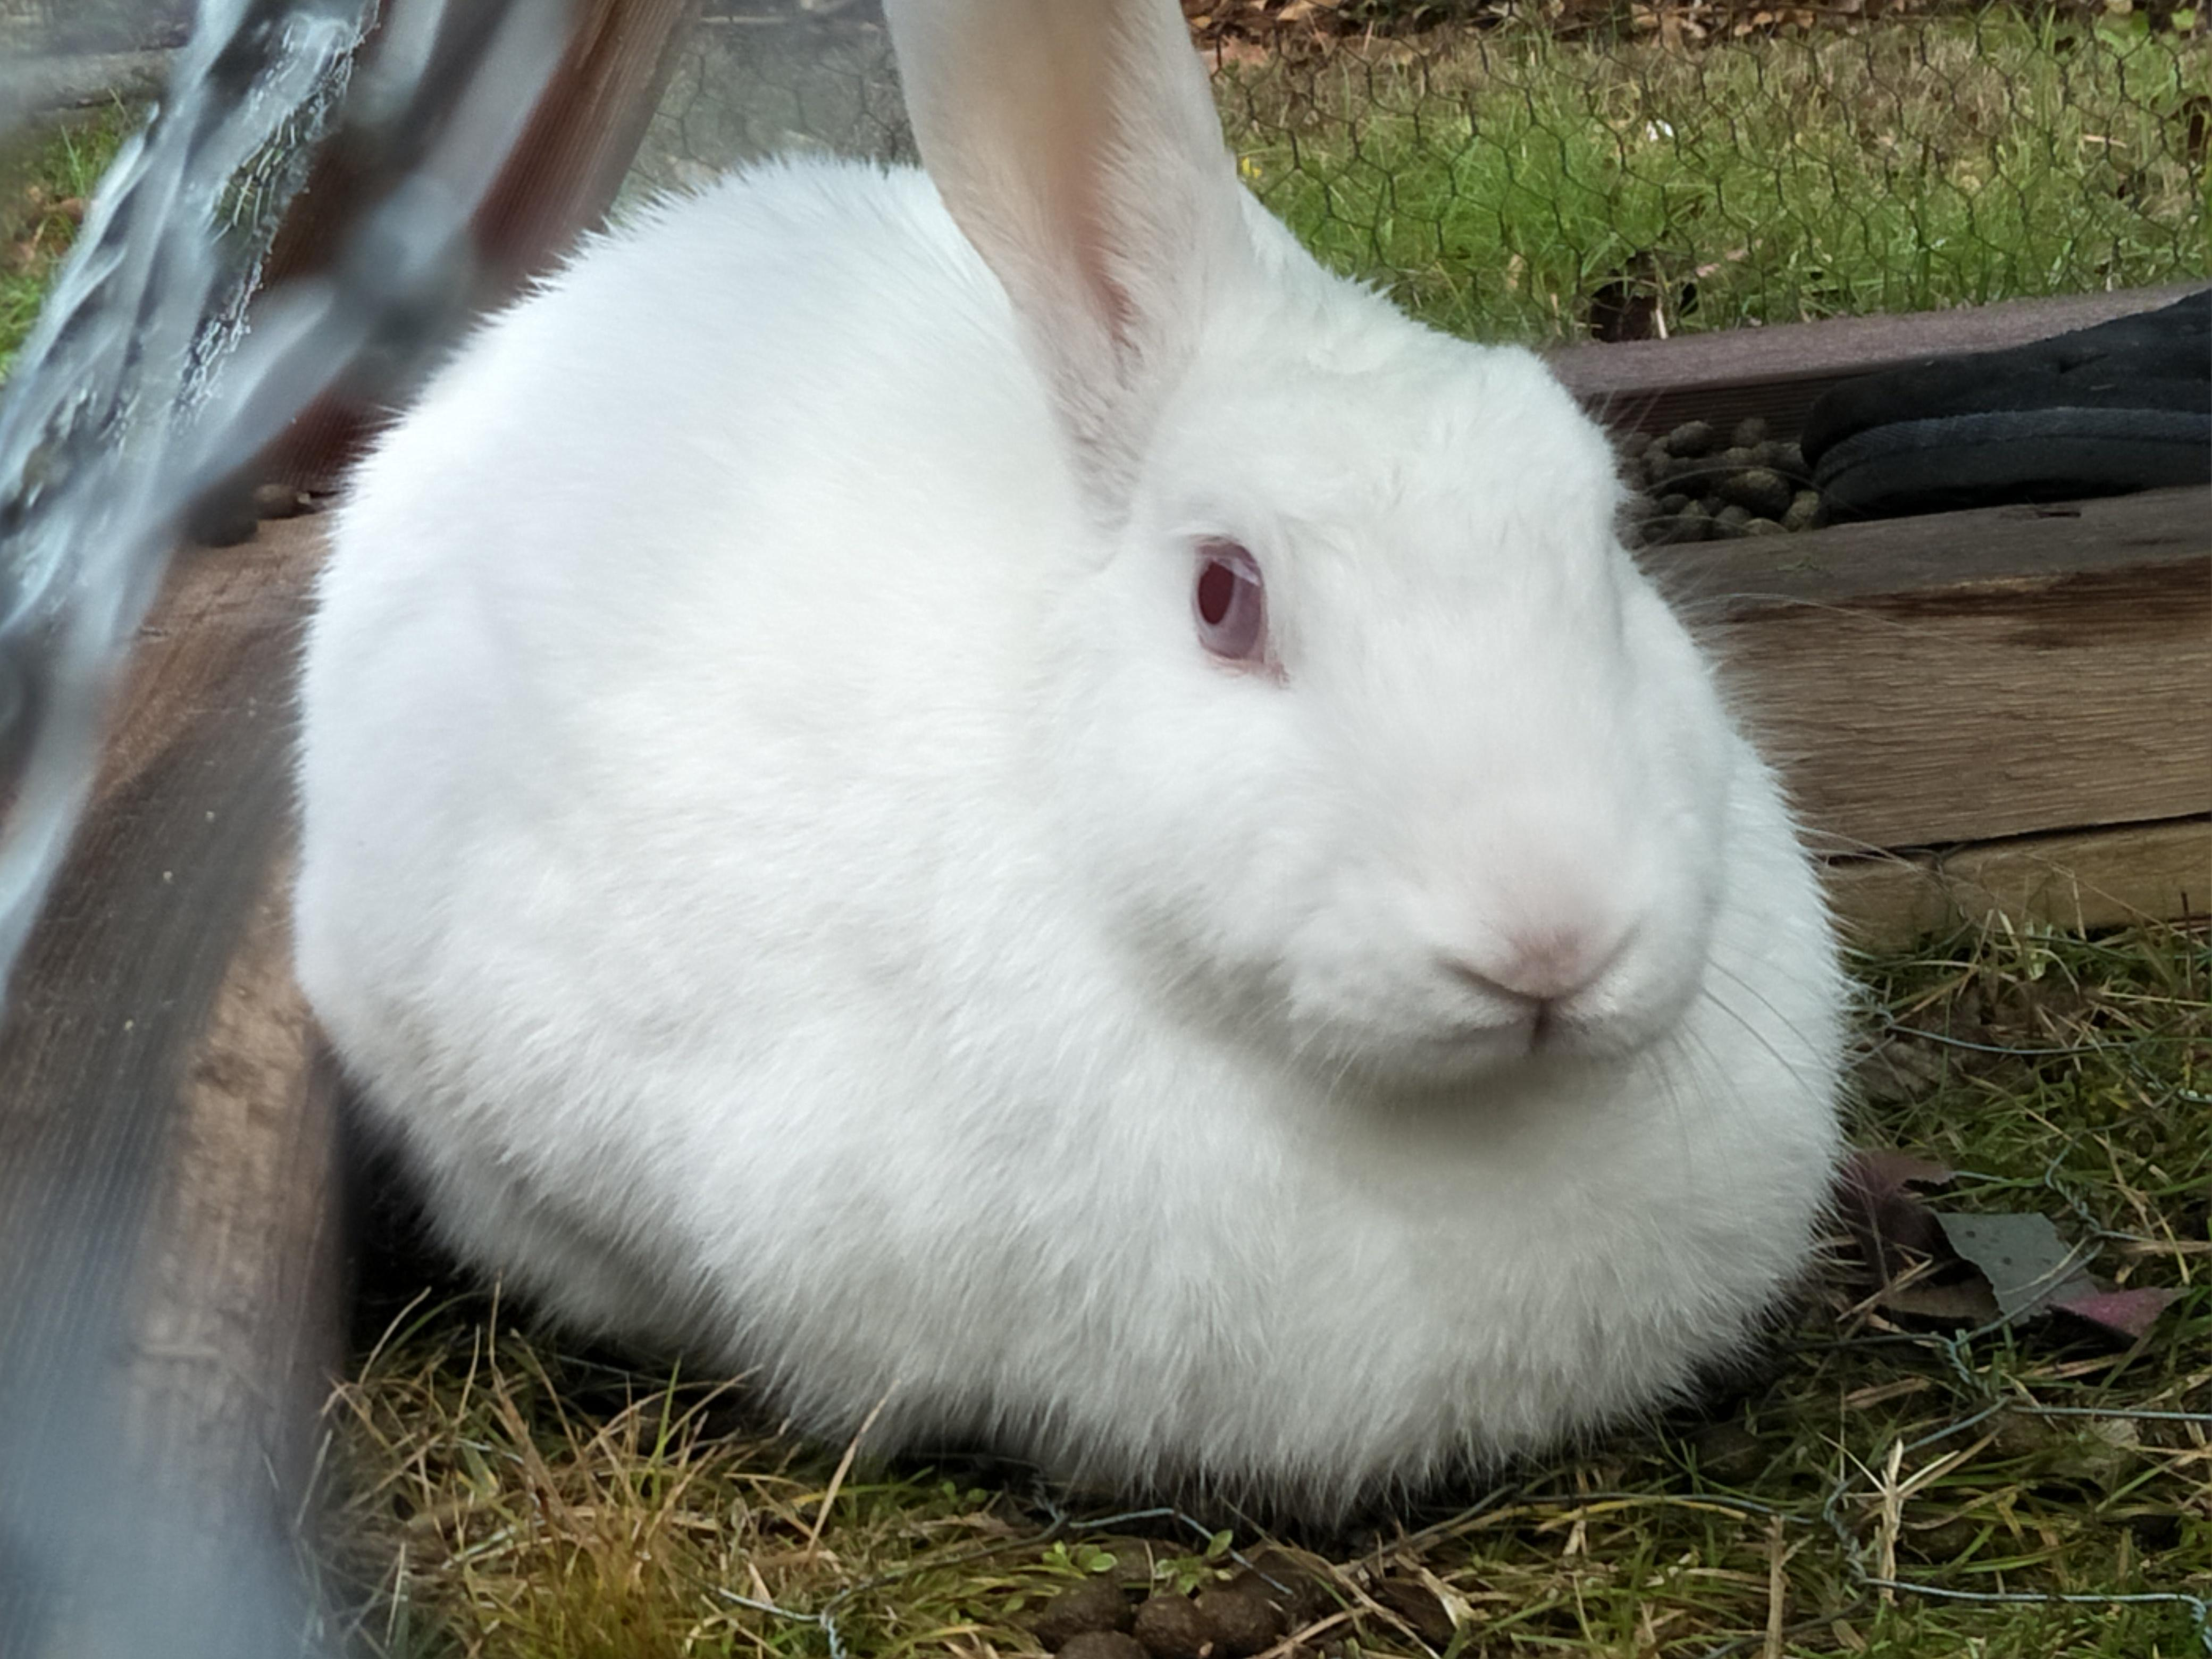bunny: (282, 37, 1940, 1558)
